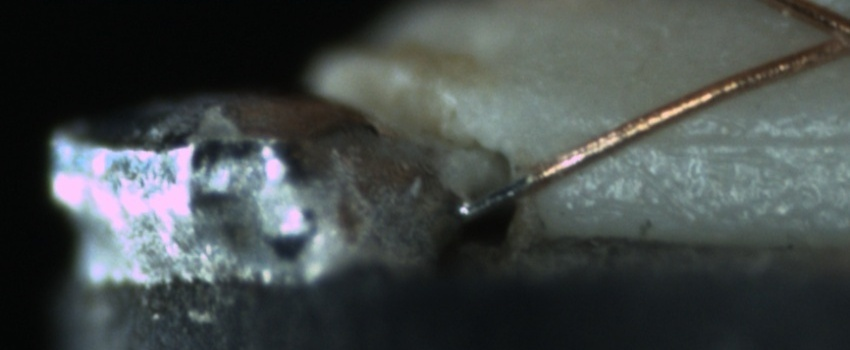CL: (796, 5, 850, 64)
DL: (613, 105, 844, 174)
TS: (456, 173, 532, 220)
